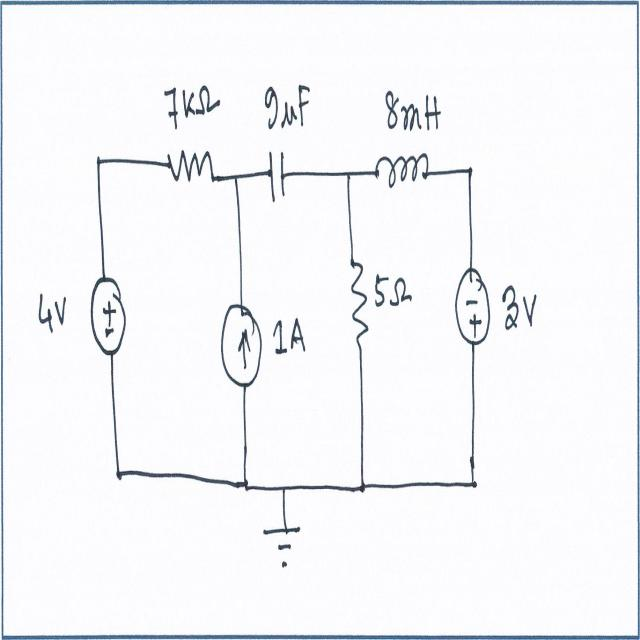capacitor: (369, 154, 433, 198), (266, 140, 288, 214)
current_source: (220, 297, 266, 391)
ground: (262, 521, 304, 579)
resistor: (166, 142, 217, 196), (348, 250, 371, 347)
voltage_source: (452, 263, 496, 355), (86, 274, 130, 363)
